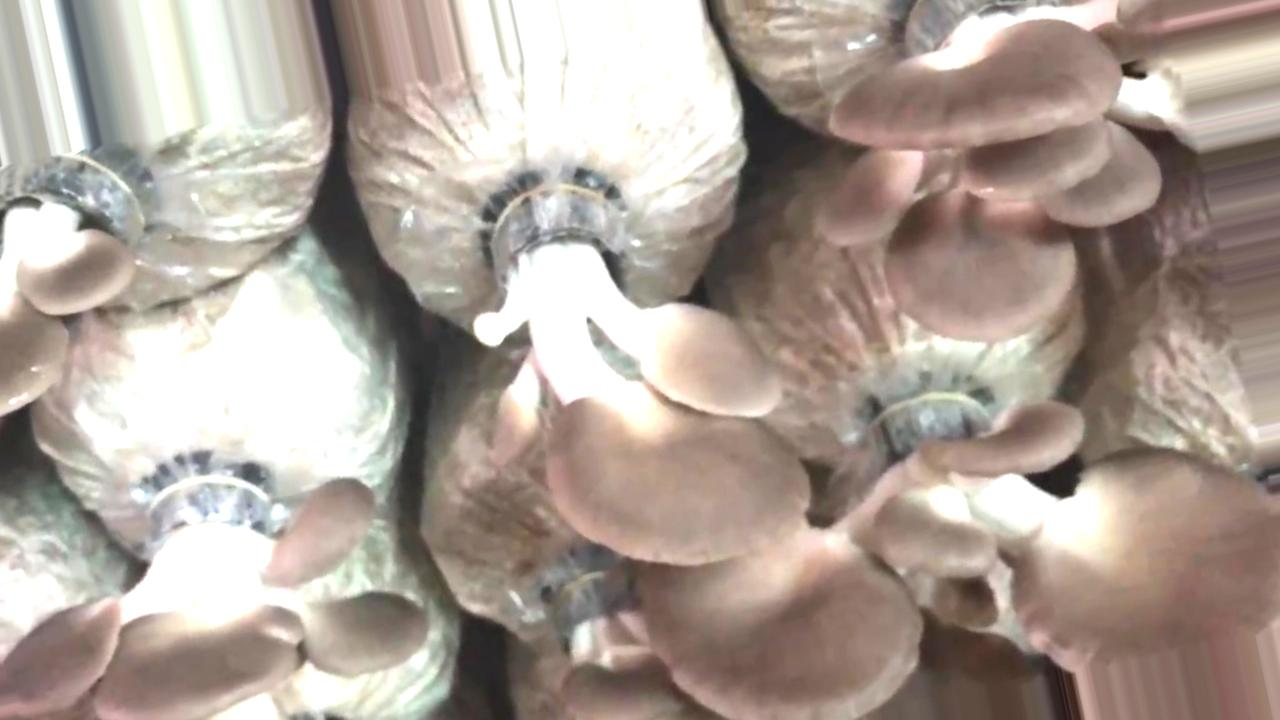nam: (642, 389, 1280, 720), (473, 170, 811, 571), (809, 3, 1159, 343), (1, 452, 428, 720), (1, 160, 146, 414), (528, 552, 723, 720)
